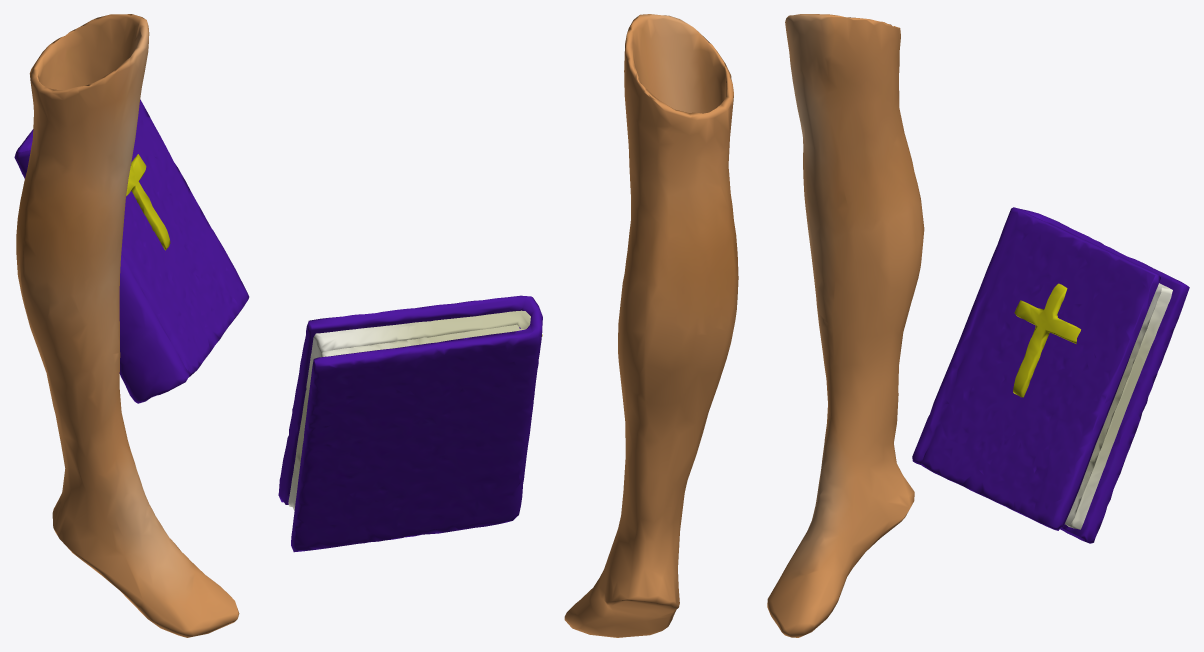
Rendered from Leg-low.glb.
3 renders of one model, left to right at view 1: azimuth 30°, elevation 25°; view 2: azimuth 150°, elevation 25°; view 3: azimuth 270°, elevation 25°, orthographic. The views are drawn at different scales.
Parts seen in each view (by area): view 1: Layer_1, Layer_2, Layer_4; view 2: Layer_1, Layer_2, Layer_2_1 (×2); view 3: Layer_1, Layer_2, Layer_2_1 (×2), Layer_4.
Boxes of the visible parts, x1,y1,x2,y2 form: Layer_1: (16,14,239,637); Layer_2: (14,99,249,403); Layer_4: (126,154,170,250); Layer_1: (564,14,738,637); Layer_2: (278,295,542,552); Layer_2_1 (×2): (288,310,530,511); Layer_1: (767,14,924,637); Layer_2: (912,207,1189,543); Layer_2_1 (×2): (1065,283,1172,529); Layer_4: (1013,283,1080,397).
Size of the model in its own units: 2.87 by 5.07 by 3.29.
